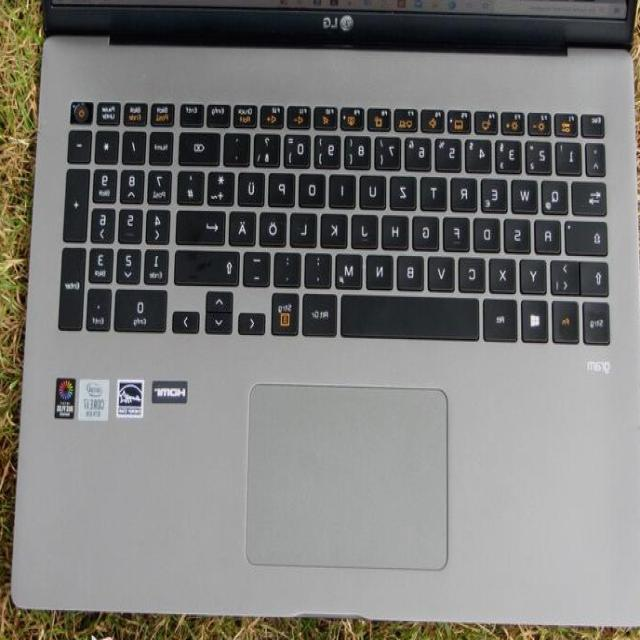0: (286, 129, 314, 165)
1: (558, 136, 585, 172)
2: (528, 136, 556, 170)
3: (498, 135, 525, 171)
4: (467, 133, 494, 169)
5: (437, 133, 464, 169)
6: (407, 132, 434, 168)
7: (377, 132, 404, 166)
8: (347, 131, 374, 167)
9: (316, 129, 344, 165)
a: (537, 214, 565, 251)
accent: (226, 128, 253, 162)
ae: (232, 206, 260, 243)
alt-left: (486, 293, 522, 338)
altgr-right: (305, 288, 341, 333)
b: (399, 251, 428, 287)
c: (461, 252, 490, 289)
caret: (588, 137, 608, 173)
comma: (307, 248, 335, 285)
d: (477, 213, 504, 250)
del: (181, 127, 224, 164)
e: (484, 173, 511, 209)
enter: (179, 204, 229, 241)
f: (446, 211, 473, 248)
g: (415, 211, 443, 247)
h: (384, 210, 412, 247)
hash: (180, 165, 208, 202)
i: (332, 169, 359, 205)
j: (354, 208, 381, 245)
k: (323, 208, 351, 244)
keyboard: (53, 92, 619, 352)
l: (293, 207, 320, 244)
less: (553, 255, 582, 292)
m: (338, 248, 366, 286)
minus: (246, 247, 275, 284)
n: (369, 249, 397, 286)
o: (301, 169, 330, 205)
oe: (262, 207, 291, 244)
p: (271, 167, 298, 203)
plus: (209, 165, 238, 202)
point: (276, 247, 304, 284)
q: (543, 174, 572, 211)
r: (453, 172, 481, 209)
s: (506, 214, 534, 250)
shift-left: (583, 256, 612, 293)
shift-lock: (568, 216, 611, 252)
shift-right: (177, 245, 244, 282)
space: (343, 290, 483, 336)
ss: (256, 128, 284, 164)
strg-left: (585, 296, 613, 341)
strg-right: (272, 290, 301, 335)
t: (423, 172, 450, 208)
tab: (574, 176, 610, 213)
u: (362, 170, 389, 206)
ue: (241, 166, 268, 203)
v: (430, 251, 458, 288)
w: (514, 173, 542, 210)
x: (491, 252, 519, 290)
y: (522, 253, 550, 290)
z: (392, 170, 420, 206)
